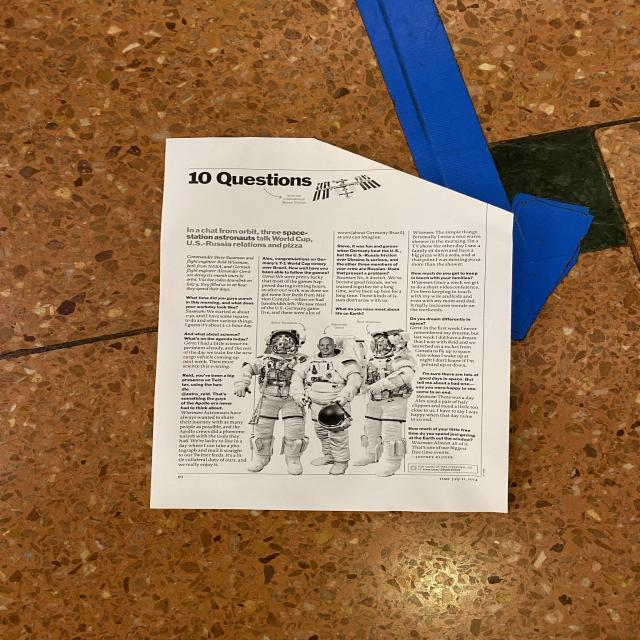document: (150, 138, 512, 512)
